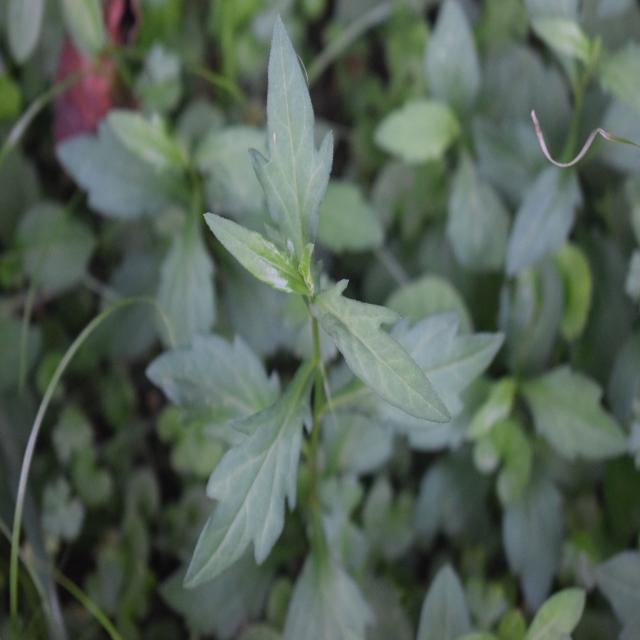Indian aster: (168, 54, 434, 557)
